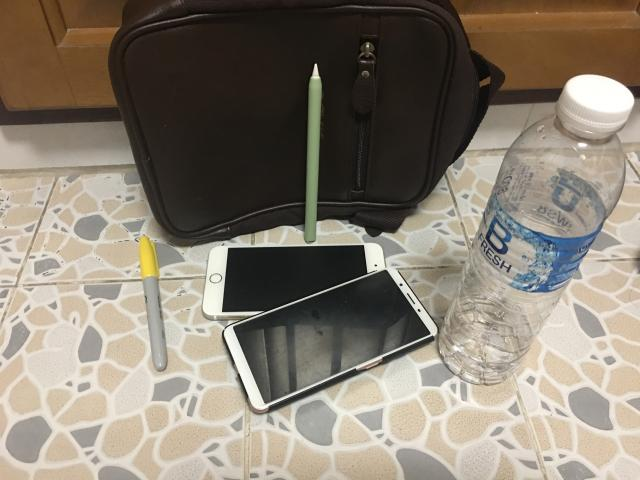Mobile phone: (222, 268, 438, 412), (202, 243, 385, 320)
Pen: (139, 235, 168, 371)
bottle: (439, 76, 631, 385)
